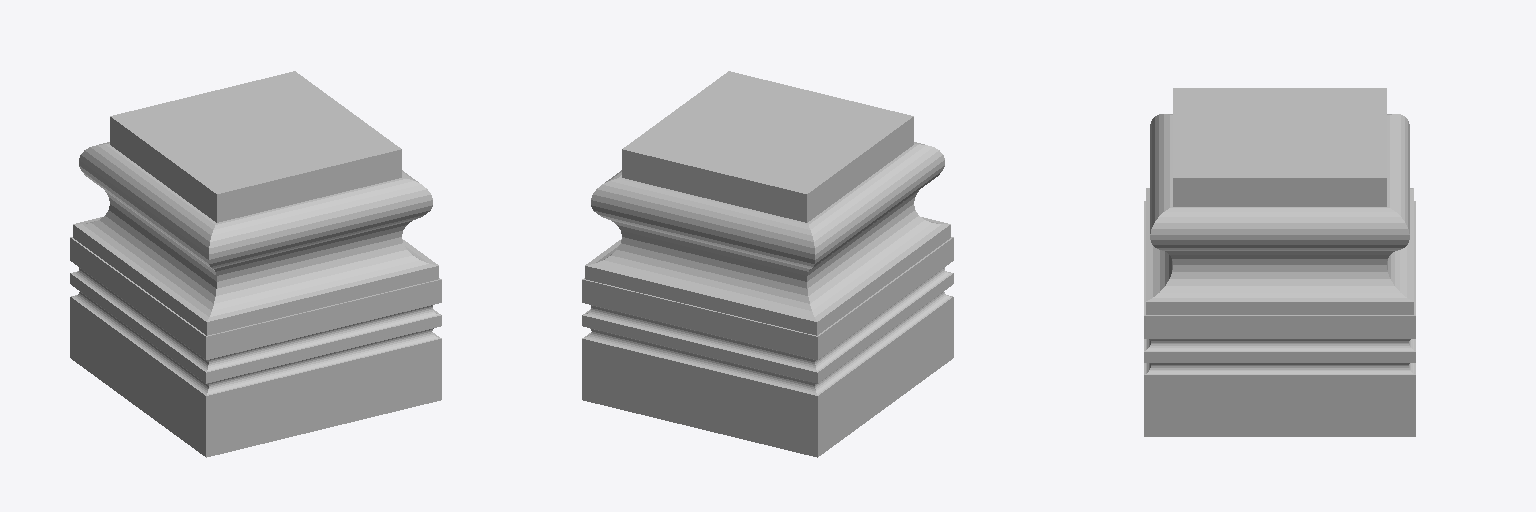
The model's file is socle.obj.
3 renders of one model, left to right at view 1: azimuth 30°, elevation 25°; view 2: azimuth 150°, elevation 25°; view 3: azimuth 270°, elevation 25°, orthographic.
Parts seen in each view (by area): view 1: SketchUp; view 2: SketchUp; view 3: SketchUp.
Boxes of the visible parts, box(x1,y1,x2,y2) form: SketchUp: box(70, 71, 441, 457); SketchUp: box(582, 71, 953, 457); SketchUp: box(1144, 88, 1415, 436).
Bounding box in the file's own units: 1 × 1 × 1.